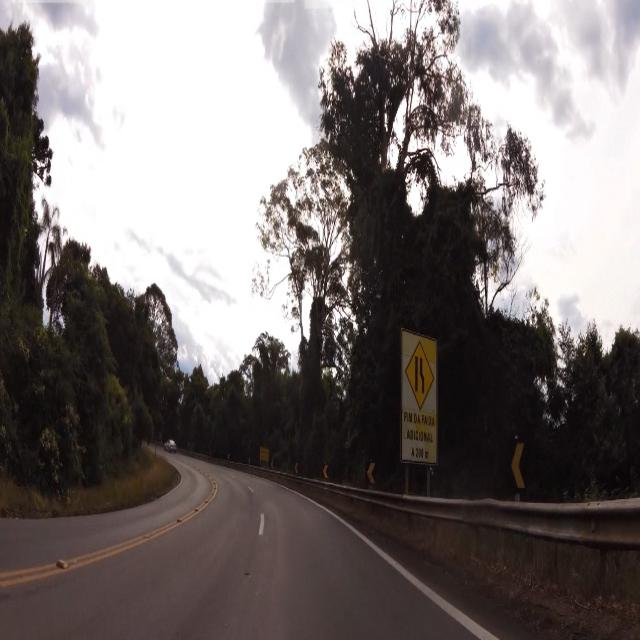A-21c: (406, 339, 436, 411)
Del: (507, 431, 528, 500), (364, 460, 379, 484)
